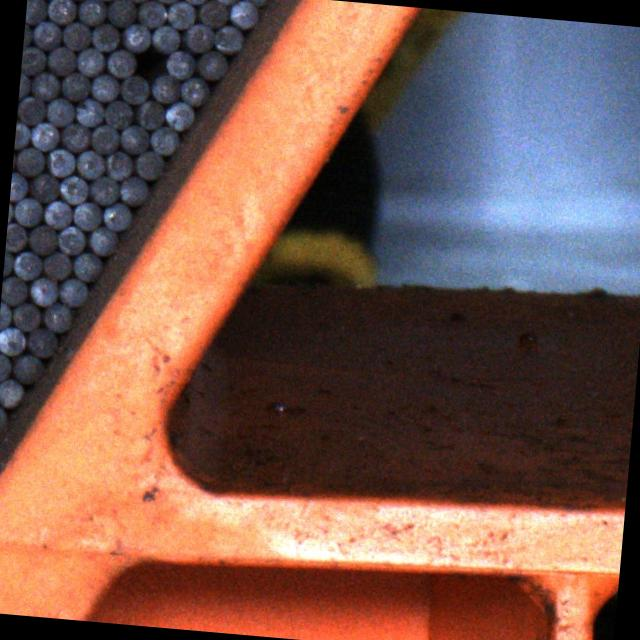tool: (196, 48, 228, 80), (182, 22, 214, 54), (162, 100, 195, 131), (25, 327, 57, 358), (11, 354, 44, 384), (28, 223, 58, 256), (30, 19, 61, 50), (28, 171, 59, 202), (56, 276, 87, 306), (72, 251, 102, 281), (42, 302, 72, 332), (58, 121, 88, 151), (14, 146, 44, 176), (149, 125, 178, 155), (87, 225, 117, 254), (61, 20, 90, 50), (75, 46, 104, 76), (164, 48, 193, 78), (119, 123, 148, 153), (44, 96, 73, 126), (58, 174, 87, 204), (55, 224, 84, 254), (28, 275, 57, 305), (118, 174, 146, 205), (137, 98, 164, 130), (179, 76, 208, 105), (150, 24, 179, 53), (102, 99, 131, 128), (75, 149, 104, 178), (45, 147, 74, 176), (13, 197, 42, 226), (212, 24, 242, 52), (136, 150, 164, 180), (164, 0, 194, 28), (197, 0, 227, 28), (90, 21, 118, 51), (60, 70, 88, 100), (72, 98, 102, 126), (90, 124, 118, 154), (16, 96, 44, 126), (29, 120, 57, 150), (42, 200, 72, 228), (12, 250, 40, 280), (104, 0, 135, 27), (0, 325, 26, 357), (229, 0, 258, 28), (102, 201, 130, 230), (119, 76, 148, 104), (46, 46, 75, 74), (30, 71, 58, 100), (136, 0, 166, 27), (150, 75, 180, 102), (74, 0, 105, 26), (1, 274, 27, 305), (122, 22, 150, 50), (106, 48, 134, 76), (90, 73, 118, 101), (90, 176, 118, 204), (72, 201, 100, 229), (11, 302, 38, 331), (42, 251, 70, 278), (104, 151, 130, 180), (45, 0, 75, 24), (20, 44, 44, 74), (0, 377, 22, 407), (5, 222, 26, 252), (10, 172, 28, 200), (25, 0, 46, 23), (14, 121, 30, 148), (0, 301, 11, 330), (0, 352, 10, 381), (0, 404, 7, 432), (240, 0, 267, 6), (208, 0, 238, 4), (180, 0, 209, 4)
void: (132, 48, 166, 80)
